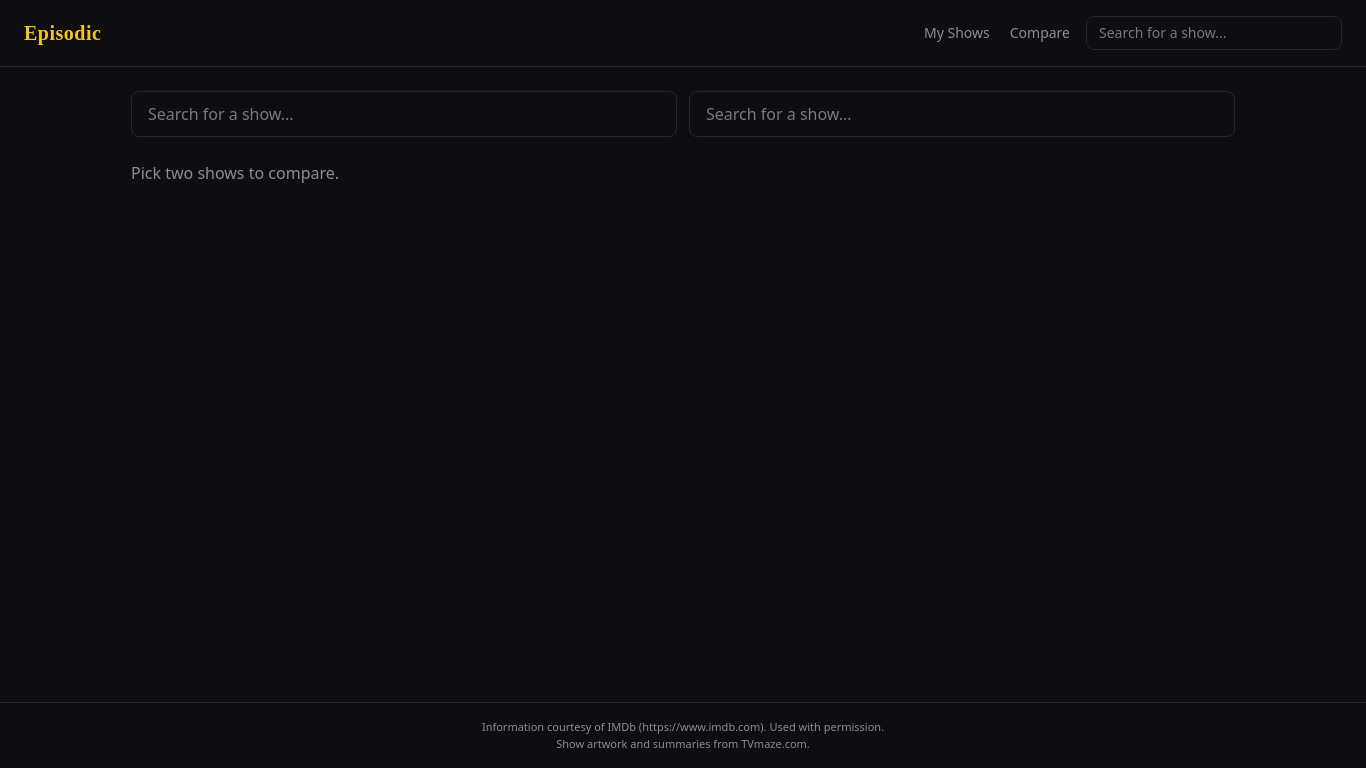
Test: Compare page › closes the dropdown after picking a result and does not reopen it
Type "tiny" into the 2nd field with placeholder "Search for a show...". click: (404, 114)
box: [131, 91, 677, 137]
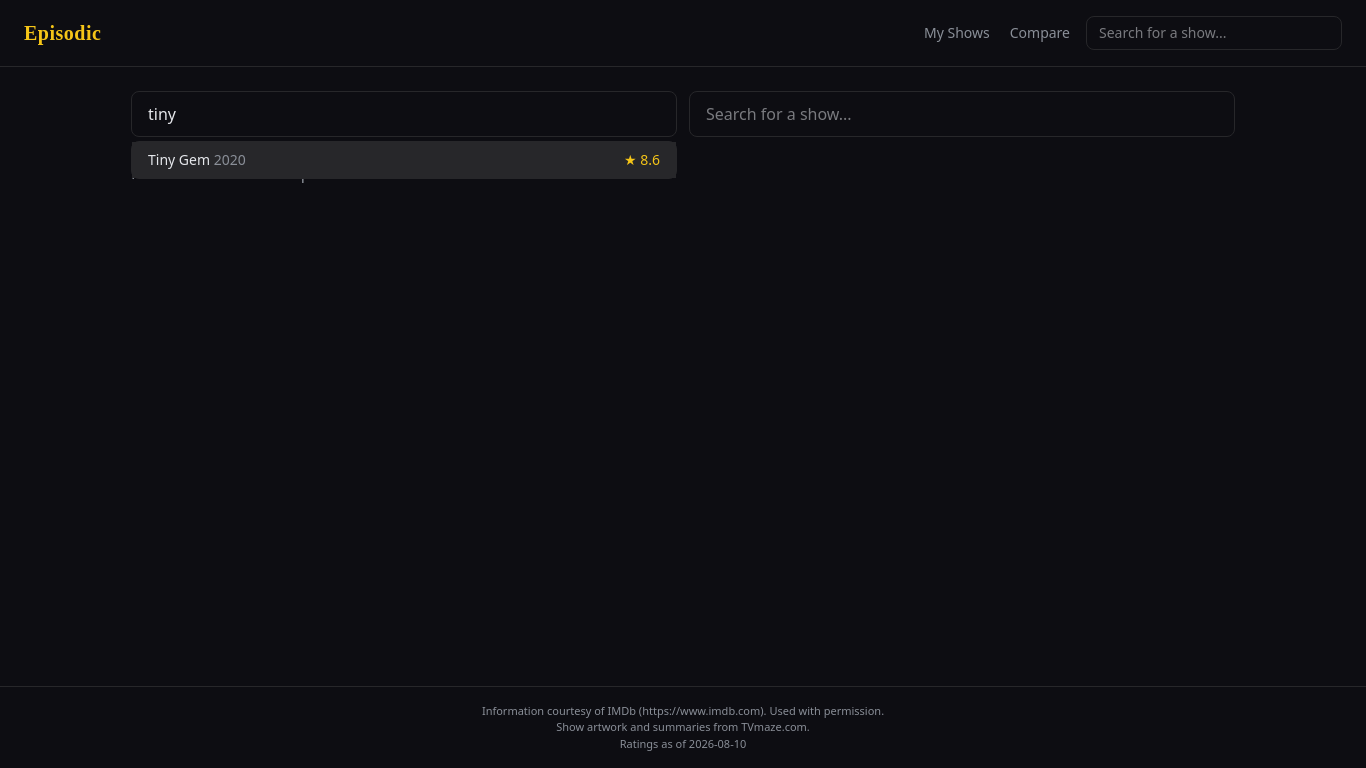
Click the button "Tiny Gem 2020 ★ 8.6". click: (179, 160)
box: [132, 142, 676, 178]
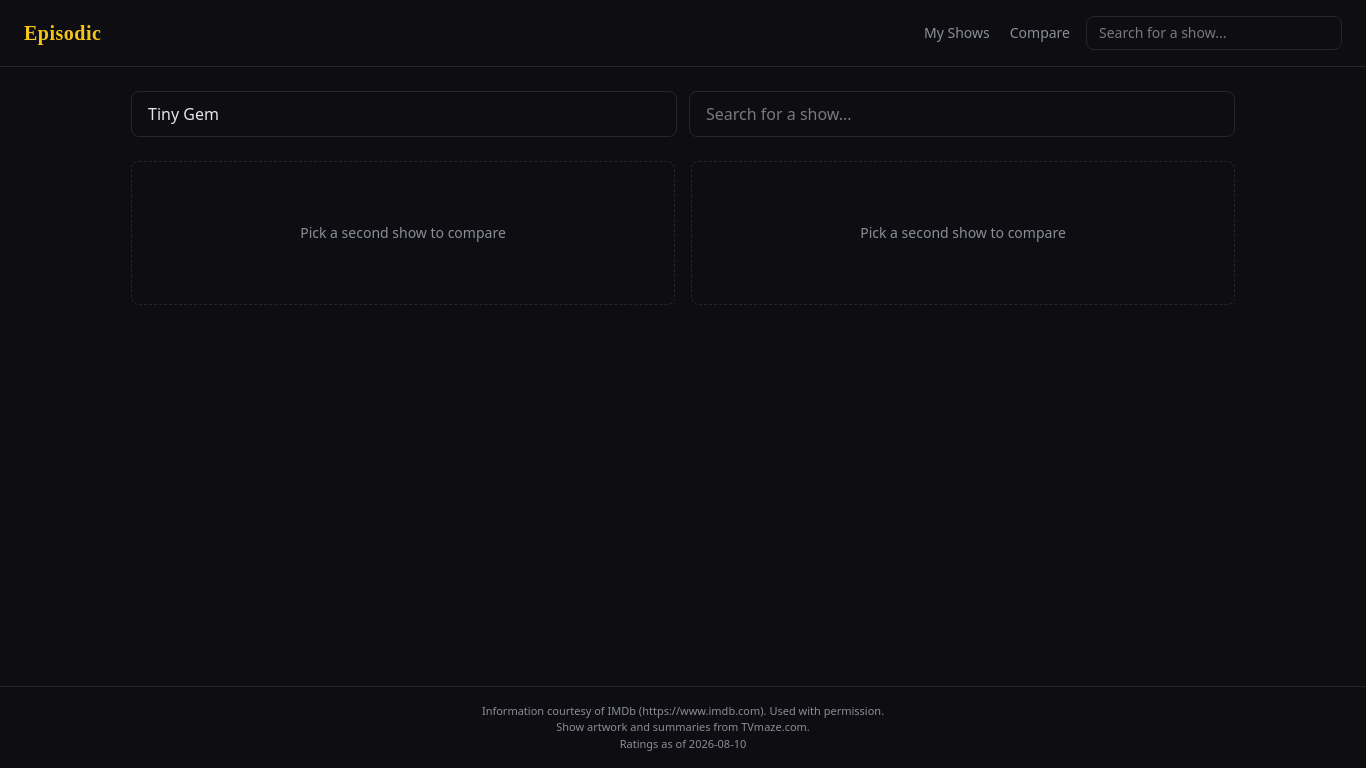
Check: the field with placeholder "Search for a show..." holds "Tiny Gem", box [131, 91, 677, 137]
